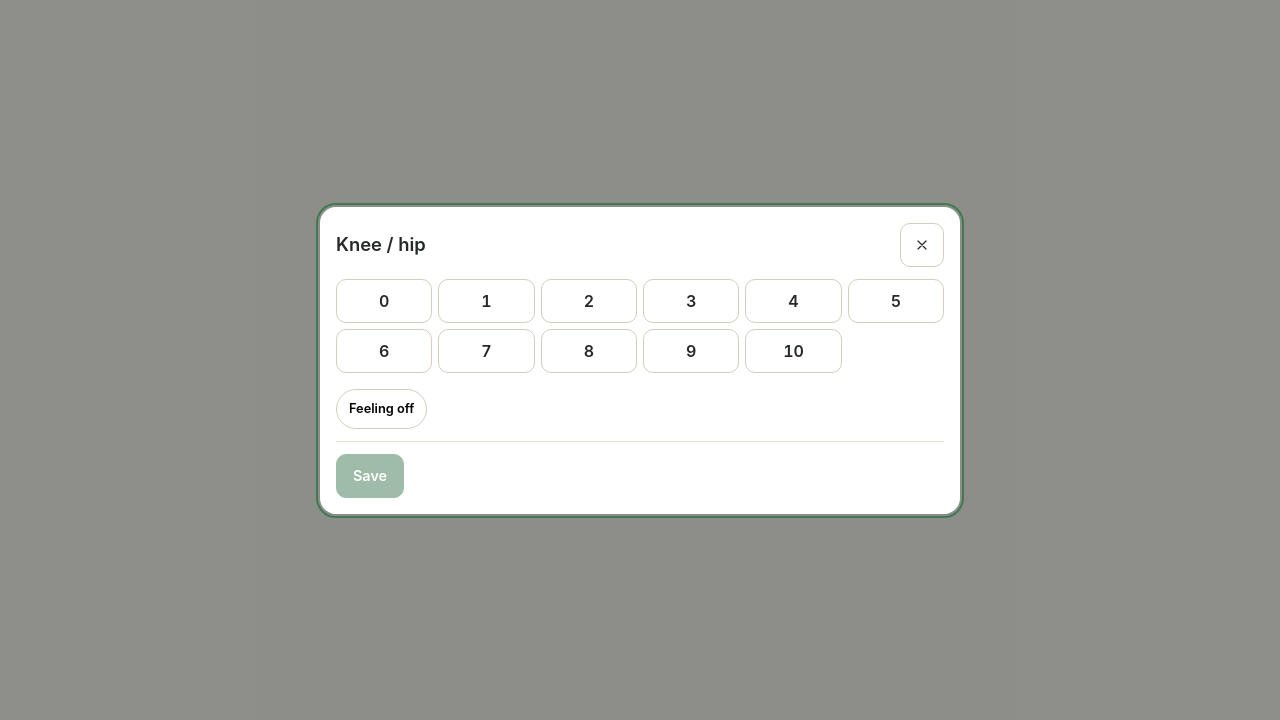
Test case: the check sheet › a check the server did not record (a restore running) is not saved: the sheet stays and says so (audit 2a-UI M7)
Click the radio button labelled "3": click(691, 300) [643,278,739,322]
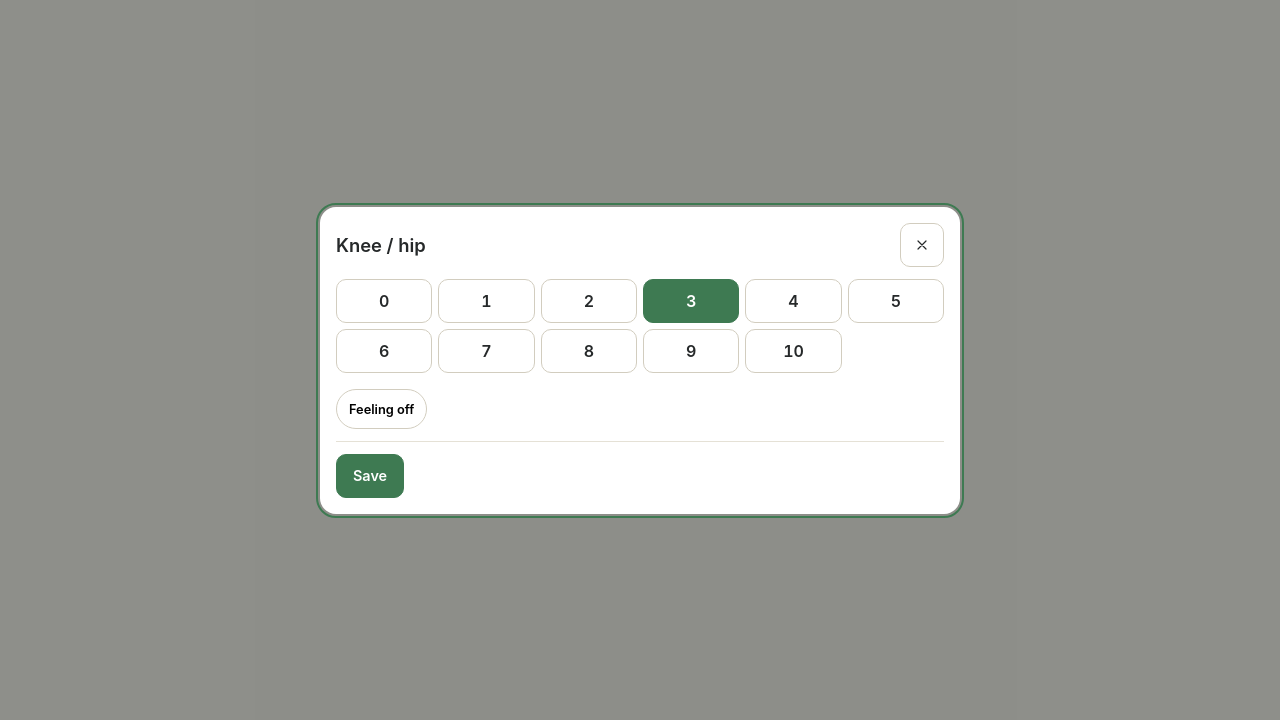
Click the button "Save": click(370, 476) [336,454,404,498]
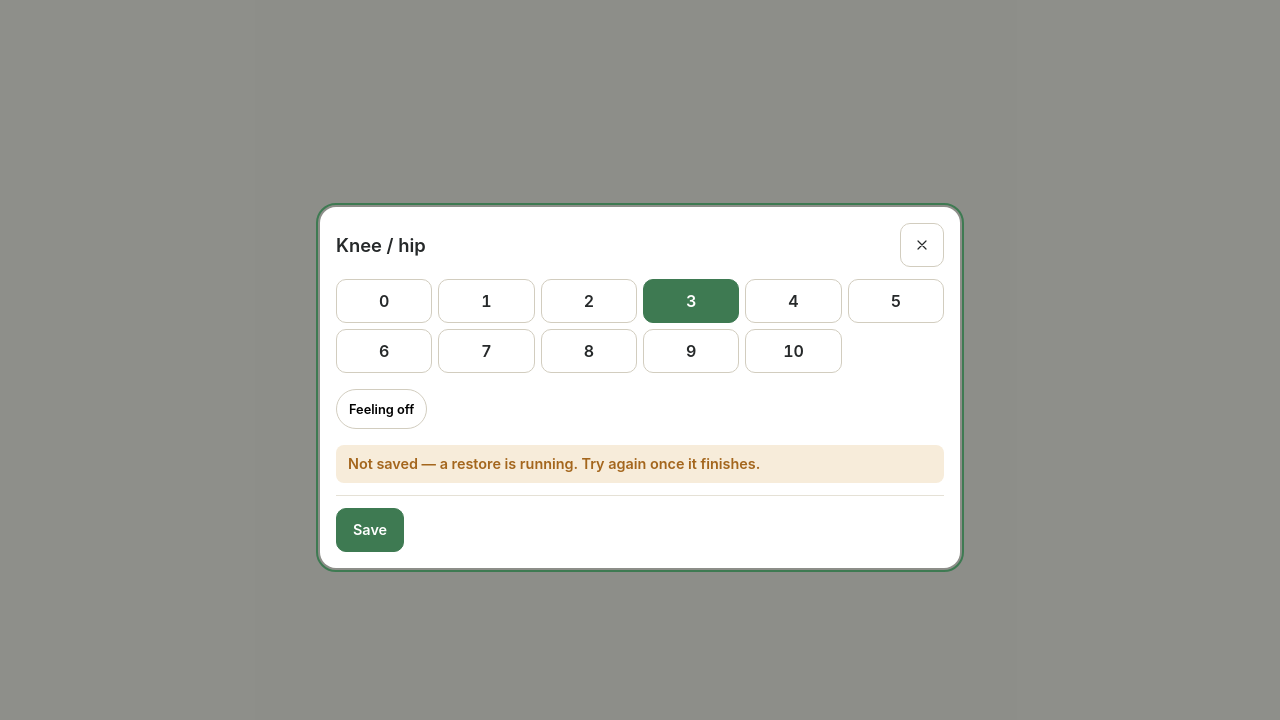
Now the text "Not saved" is shown, box [348,455,760,472]
